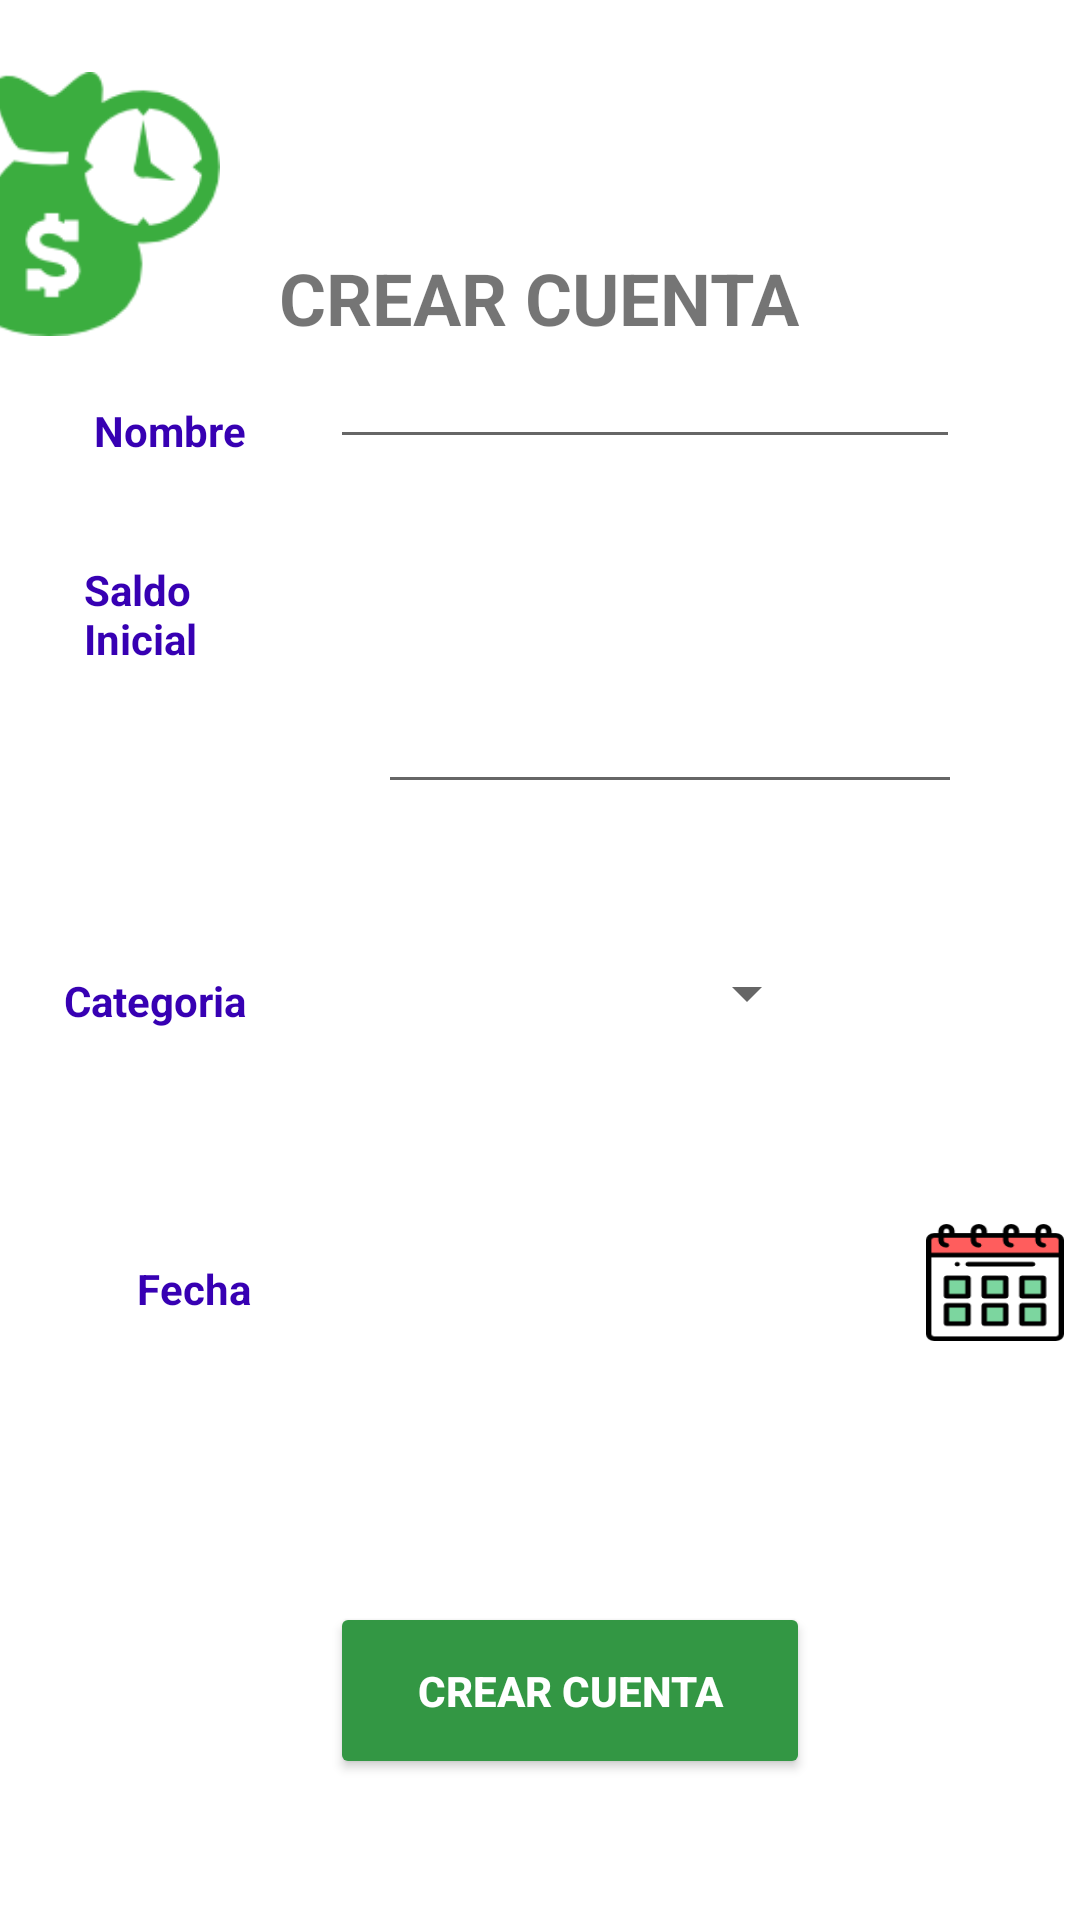

Locate icon controls on the screen. Image size 1080*1920, boxes as Rect(x1, y1, x2, y2).
calendario: Rect(926, 1224, 1064, 1341)
